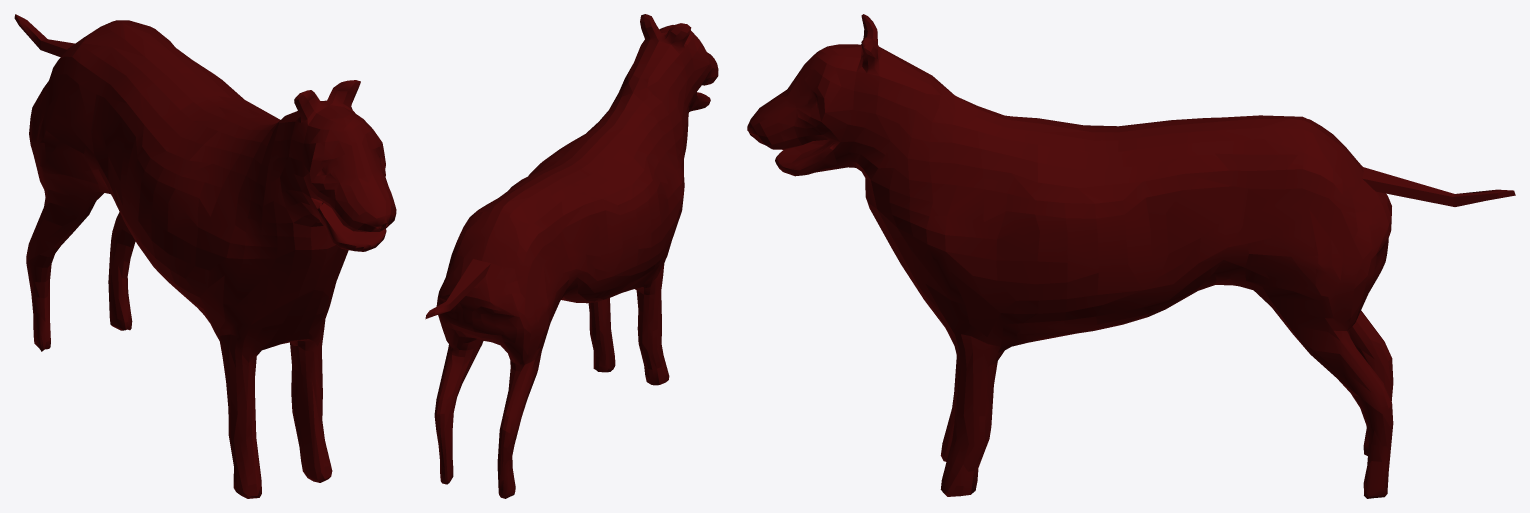
File: Dog1.fbx
The picture shows the model from 3 angles, left to right: view 1: azimuth 30°, elevation 25°; view 2: azimuth 150°, elevation 25°; view 3: azimuth 270°, elevation 25°; orthographic projection. The views are drawn at different scales.
Visible parts, largest first — view 1: Polygon; view 2: Polygon; view 3: Polygon.
Boxes of the visible parts, bbox=[...] form: Polygon: bbox=[14, 14, 396, 498]; Polygon: bbox=[425, 14, 718, 498]; Polygon: bbox=[747, 14, 1515, 498].
Size of the model in its own units: 2818 by 7384 by 11454.
